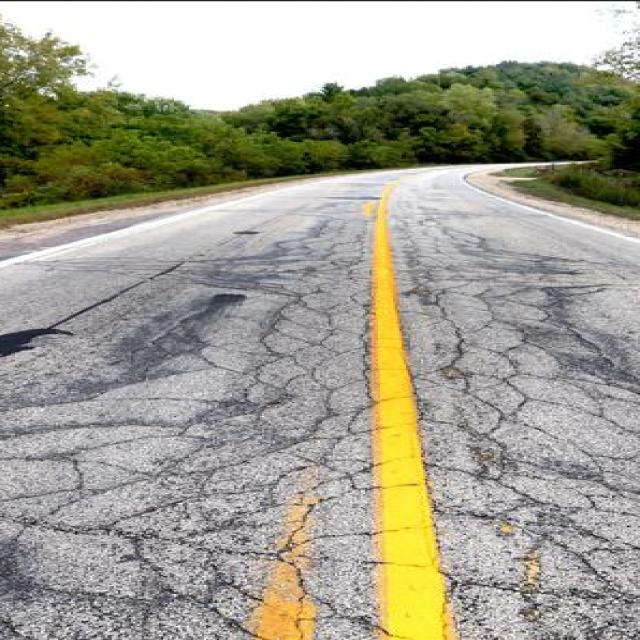Drain Hole: (127, 265, 640, 624)
